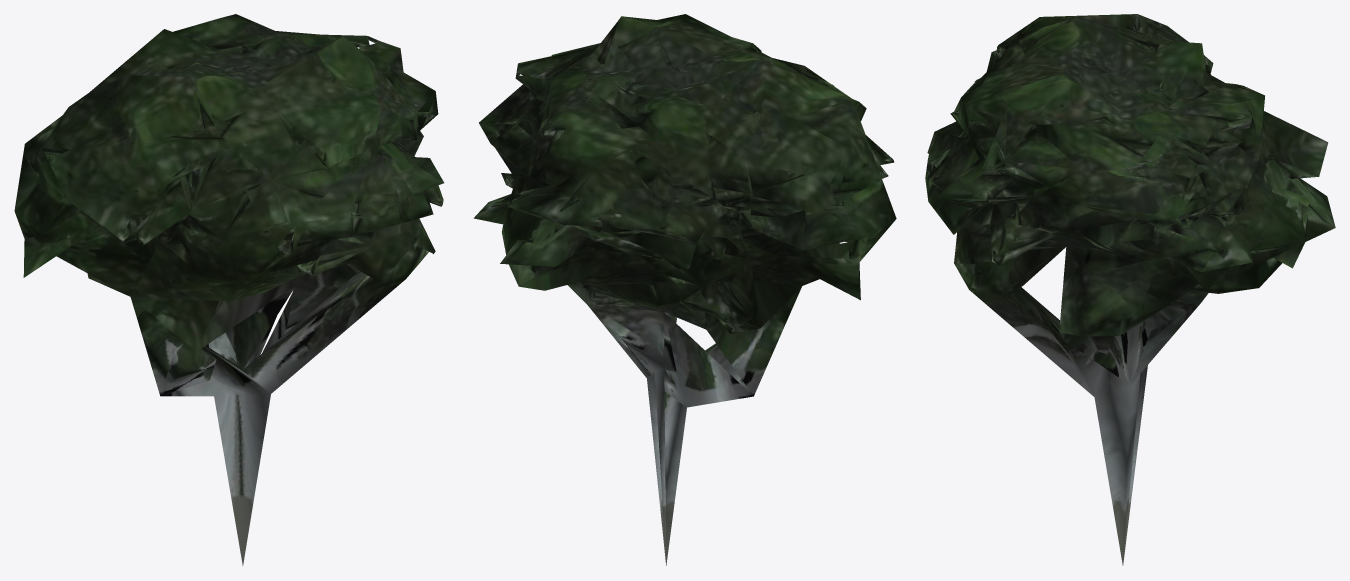
The model's file is 7718e1f3515e_leafy_ficus_tree__3.obj.
3 views of the same model, side by side, from view 1: azimuth 30°, elevation 25°; view 2: azimuth 150°, elevation 25°; view 3: azimuth 270°, elevation 25° (orthographic). The views are drawn at different scales.
Parts seen in each view (by area): view 1: mesh; view 2: mesh; view 3: mesh.
Part boxes in pixels (x1,y1,x2,y2): mesh: (14,14,444,565); mesh: (473,14,896,565); mesh: (925,14,1335,565).
Bounding box in the file's own units: 0.7077 × 0.9333 × 0.6677.
